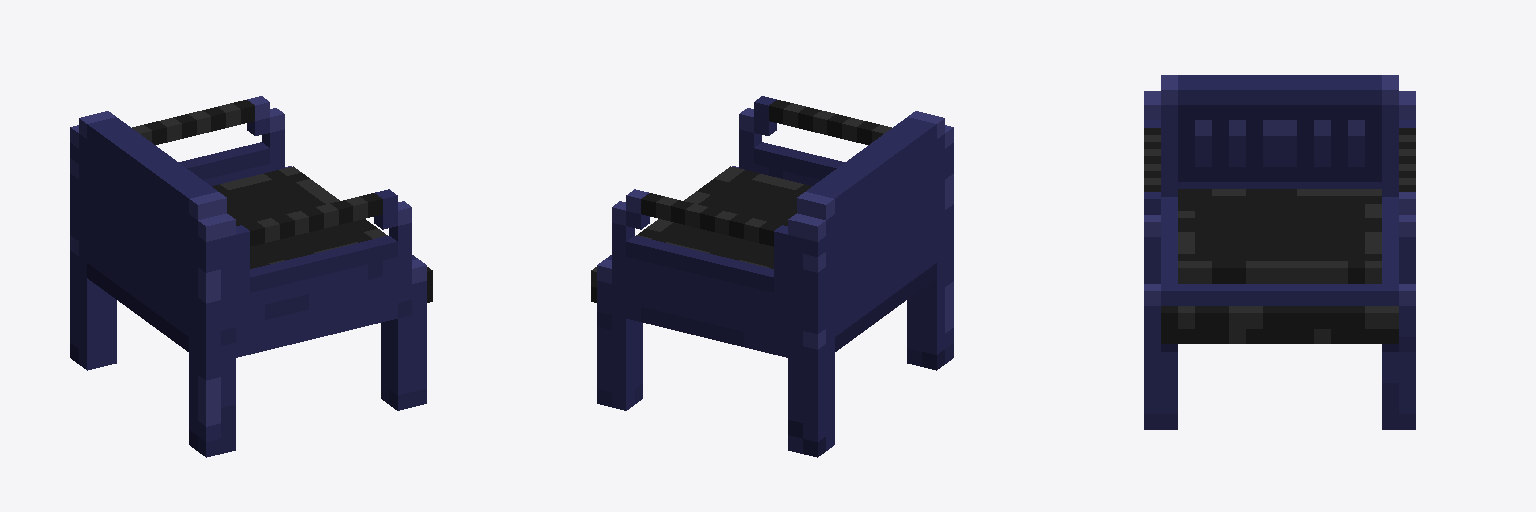
3 renders of one model, left to right at view 1: azimuth 30°, elevation 25°; view 2: azimuth 150°, elevation 25°; view 3: azimuth 270°, elevation 25°, orthographic.
Visible parts, largest first — view 1: chair; view 2: chair; view 3: chair.
Boxes of the visible parts, x1=… form: chair: x1=70, y1=96, x2=432, y2=457; chair: x1=591, y1=96, x2=953, y2=457; chair: x1=1144, y1=75, x2=1415, y2=429.
Bounding box in the file's own units: 16 × 16 × 16.
Materials: 1 (1 with a texture image).